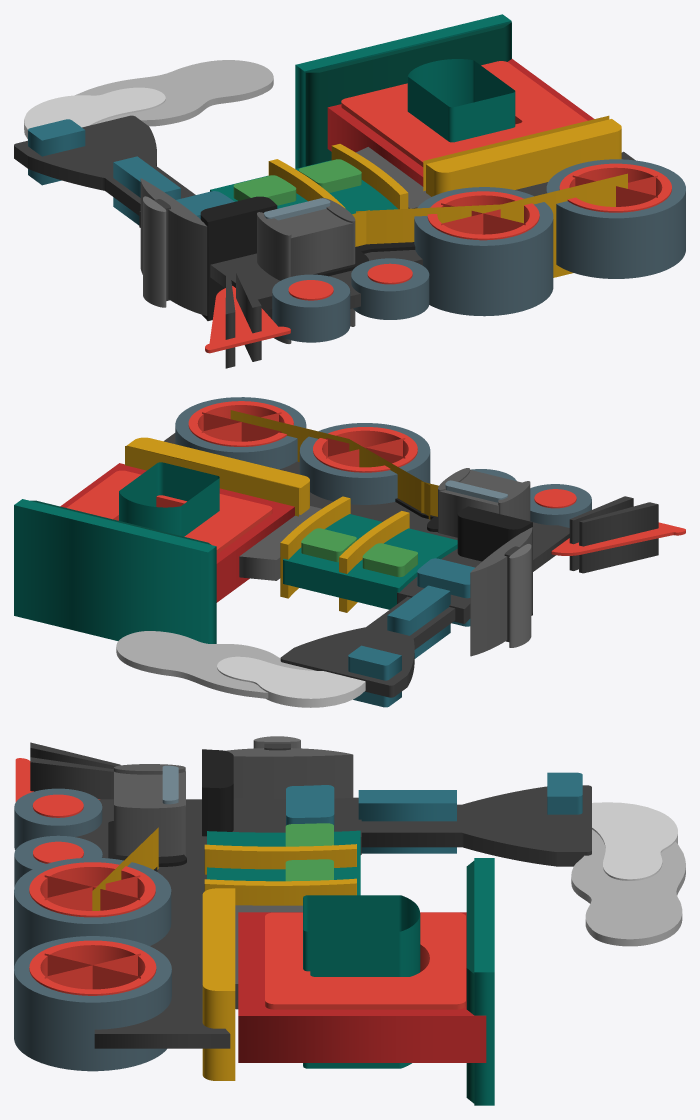
File: emoji_u1f682.glb
The picture shows the model from 3 angles, top to bottom: view 1: azimuth 30°, elevation 25°; view 2: azimuth 150°, elevation 25°; view 3: azimuth 270°, elevation 25°; orthographic projection. The views are drawn at different scales.
Parts seen in each view (by area): view 1: emoji_u1f682; view 2: emoji_u1f682; view 3: emoji_u1f682.
Part boxes in pixels (x1=…): emoji_u1f682: x1=14, y1=14, x2=685, y2=368; emoji_u1f682: x1=14, y1=397, x2=685, y2=707; emoji_u1f682: x1=14, y1=736, x2=685, y2=1105.
Size of the model in its own units: 0.0335 by 0.0076 by 0.0338.
